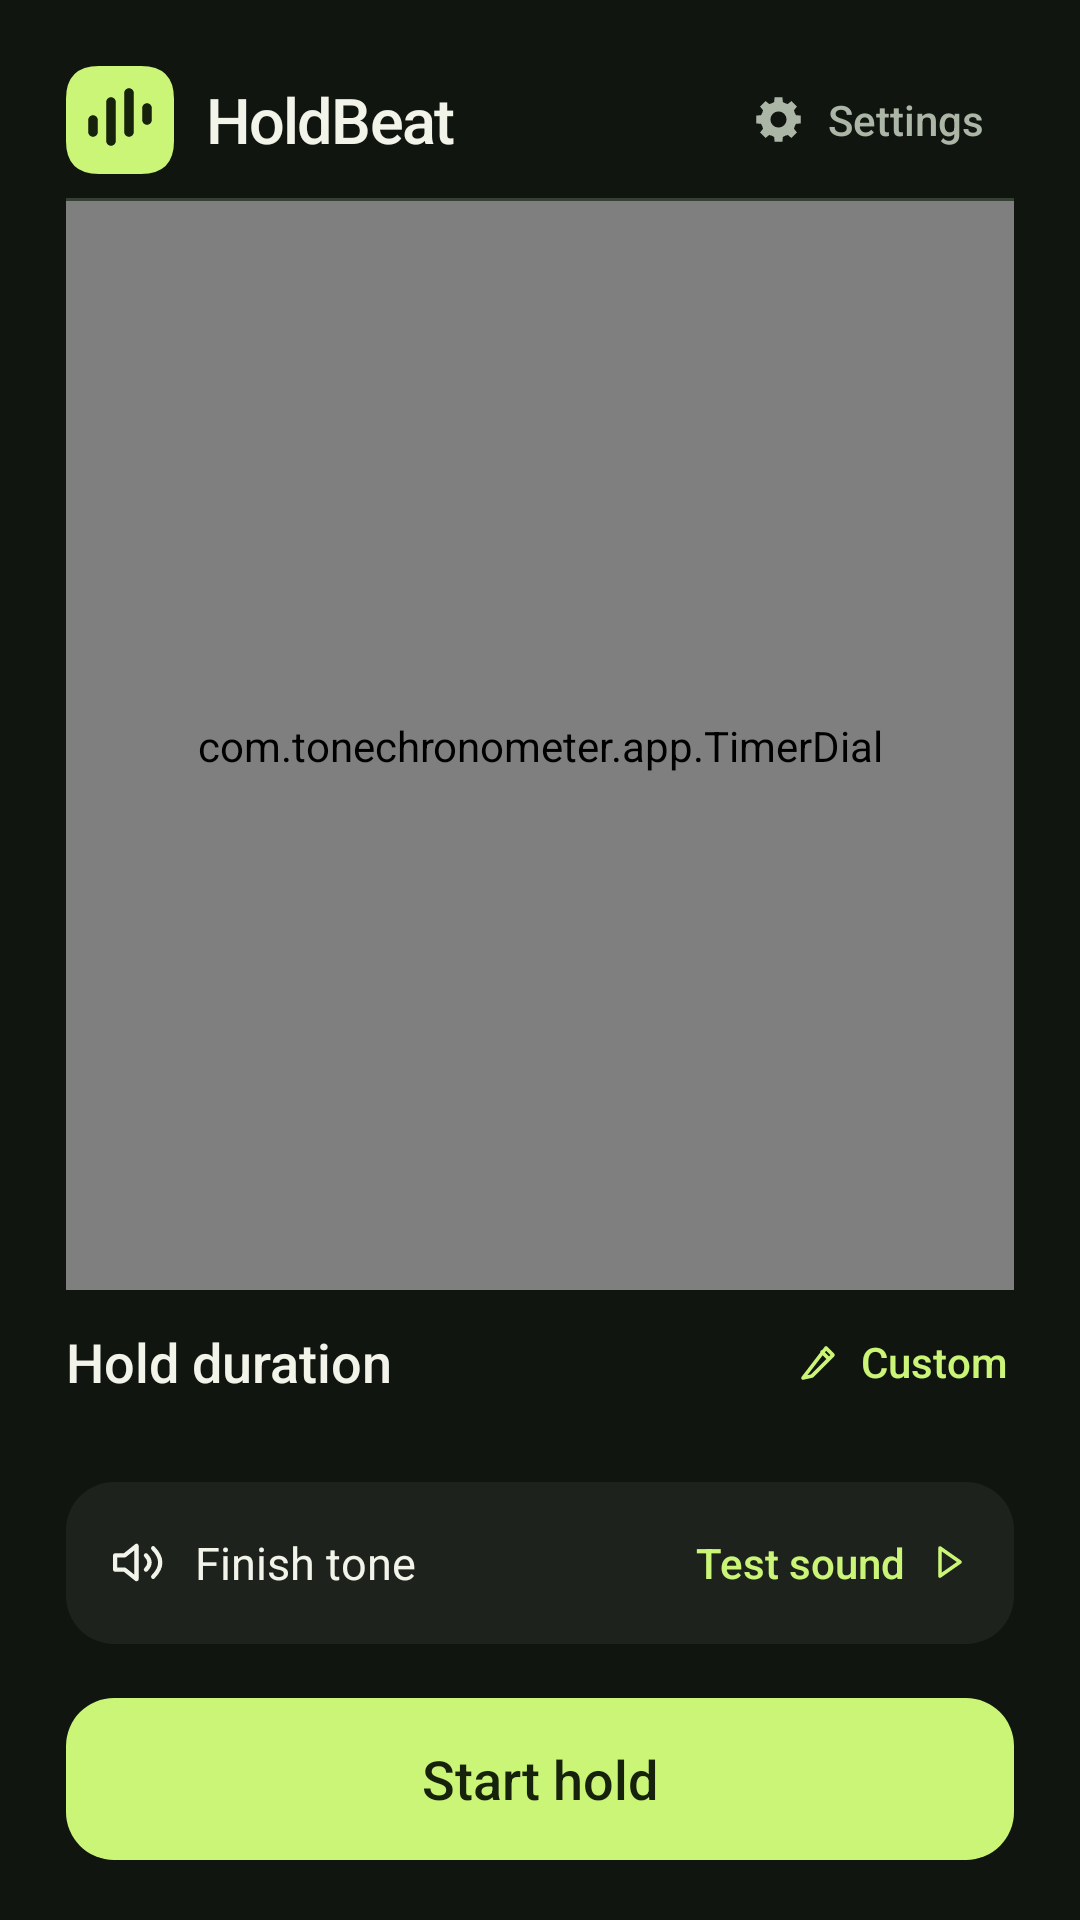

Screen size 1080 x 1920. Icon name, then its center in pixels as [x,y]:
speaker: [138,1562]
